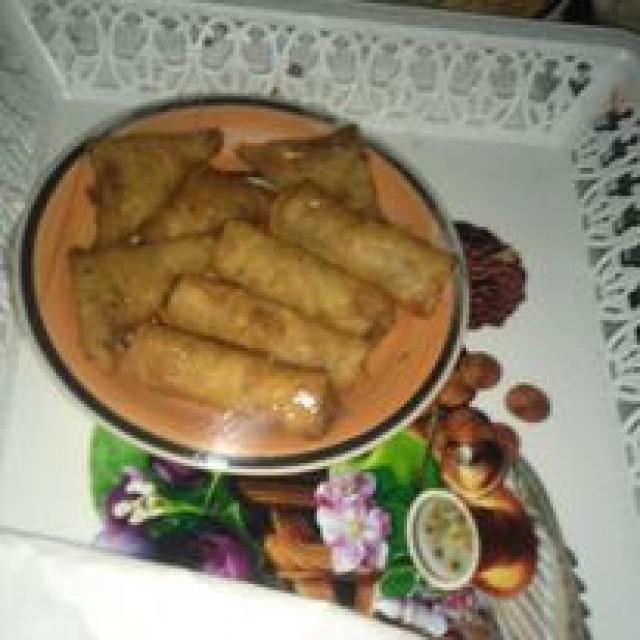Samosa: (75, 105, 202, 308)
Spring Rolls: (214, 183, 442, 420)
